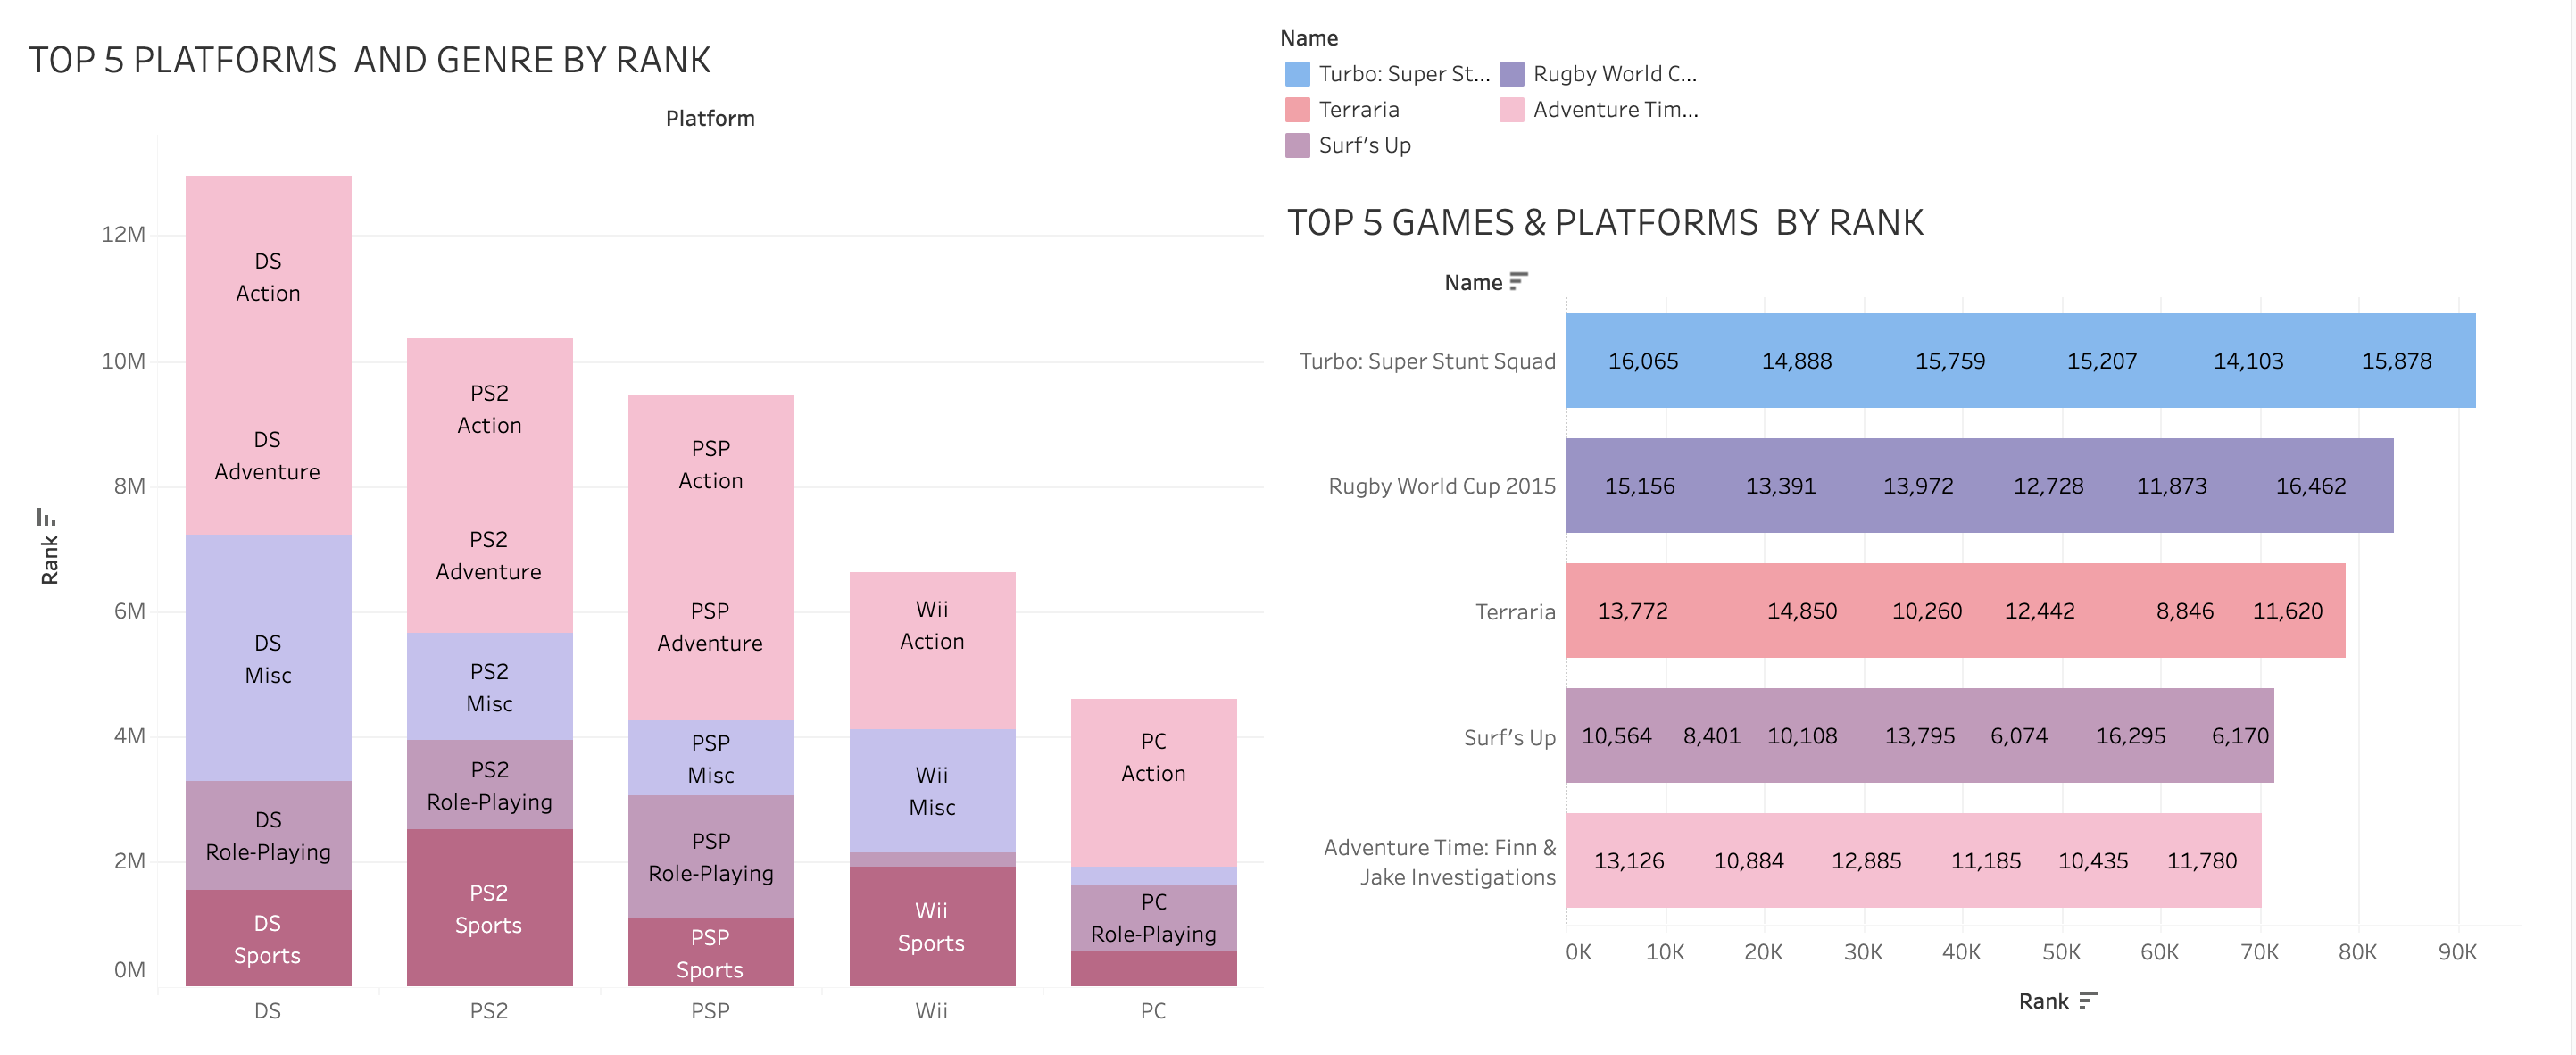

The dashboard page shown, as its layout file describes it:
{"tool":"tableau","page":{"name":"PLATFORM,GENRE, GAMES BY RANK","canvas":[1000,1000],"units":"permille","ordinal":0},"visuals":[{"type":"worksheet","title":"TOP 5 GAMES PLATFORMS BY RANK","mark":"Automatic","rows":["Rank"],"cols":["Platform"],"box":[12.7,23.4,487.3,953.2]},{"type":"legend","title":"TOP 5 GAMES & PLATFORMS BY  RANK","param":"[federated.1hq2giy18omhrr17rz2170e2f8a8].[none:Name:nk]","box":[500,23.4,487.3,133.2]},{"type":"worksheet","title":"TOP 5 GAMES & PLATFORMS BY  RANK","mark":"Automatic","rows":["Name"],"cols":["Rank"],"box":[500,156.7,487.3,819.9]}]}

Visuals, with their boxes on the dashboard's canvas, which has no fixed pixel size, in thousandths of its width and height (x1, y1, x2, y2). These are canvas units, not pixel positions in the 2576x1055 screenshot, which may show the page scaled, cropped or inside an application window:
"TOP 5 GAMES PLATFORMS BY RANK" worksheet: bbox(13, 23, 500, 977)
"TOP 5 GAMES & PLATFORMS BY  RANK" legend: bbox(500, 23, 987, 157)
"TOP 5 GAMES & PLATFORMS BY  RANK" worksheet: bbox(500, 157, 987, 977)
